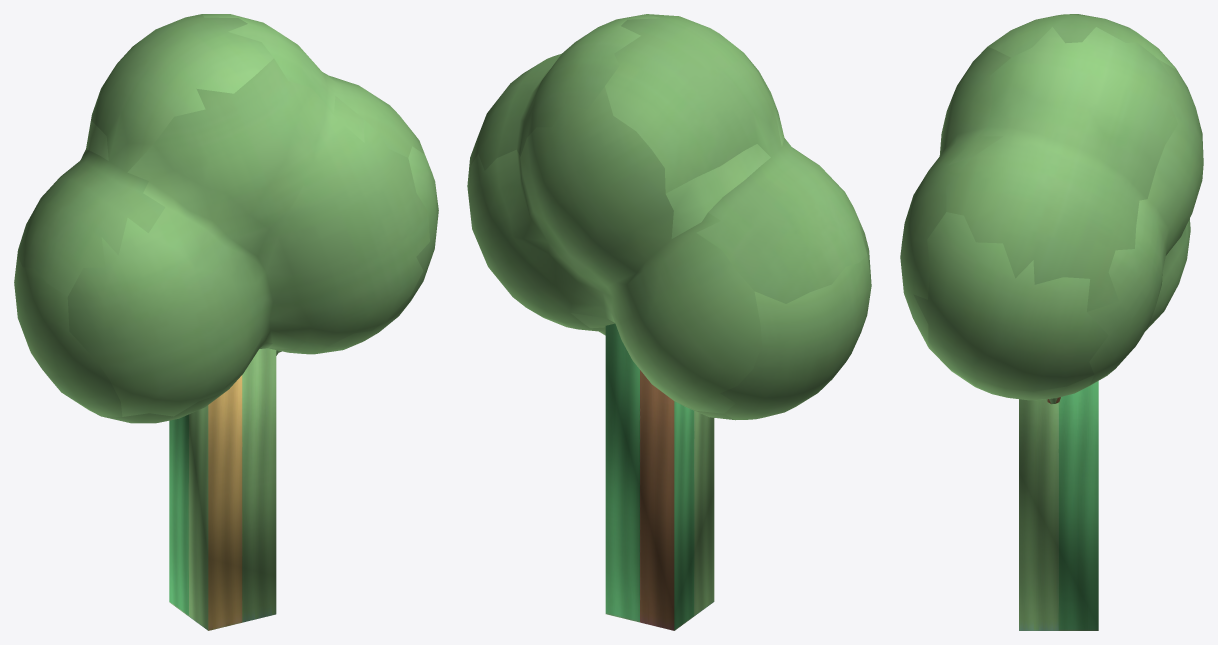
The model's file is tree_lush_b.glb.
3 views of the same model, side by side, from view 1: azimuth 30°, elevation 25°; view 2: azimuth 150°, elevation 25°; view 3: azimuth 270°, elevation 25° (orthographic).
Visible parts, largest first — view 1: lod0, col; view 2: lod0, col; view 3: lod0, col.
Boxes of the visible parts, <box> form: lod0: <box>14,14,438,423</box>; col: <box>169,348,276,630</box>; lod0: <box>467,14,871,420</box>; col: <box>605,323,714,630</box>; lod0: <box>900,14,1203,404</box>; col: <box>1019,381,1098,630</box>.
Size of what is drawn, in the model's own units: 3.32 by 4.88 by 2.28.
2 materials, 2 textured.
